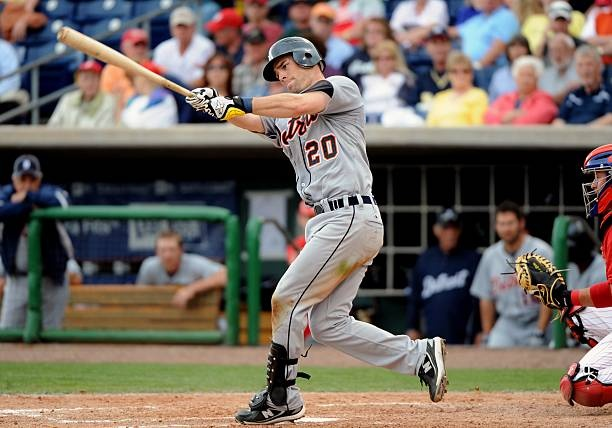bita: (56, 28, 231, 110)
